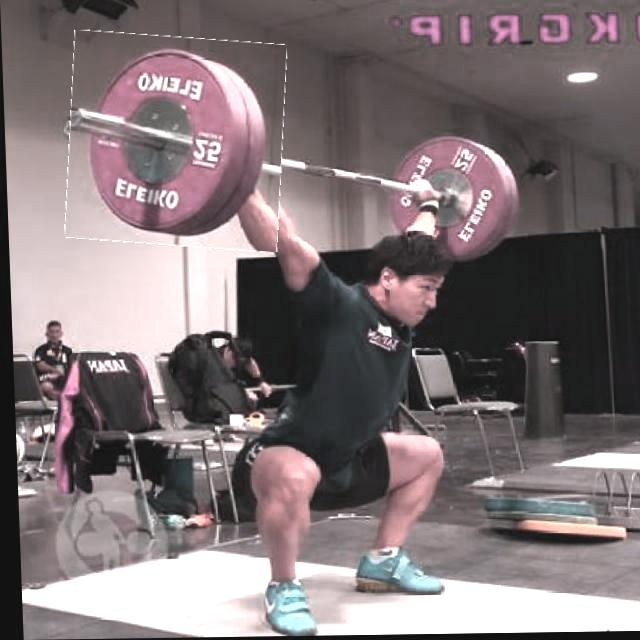barbell: (61, 34, 287, 252)
